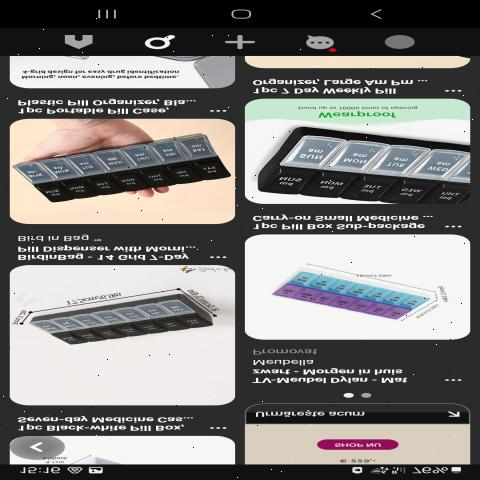PillBox: (15, 127, 236, 210), (251, 127, 480, 196), (269, 255, 454, 330), (22, 282, 215, 352)
